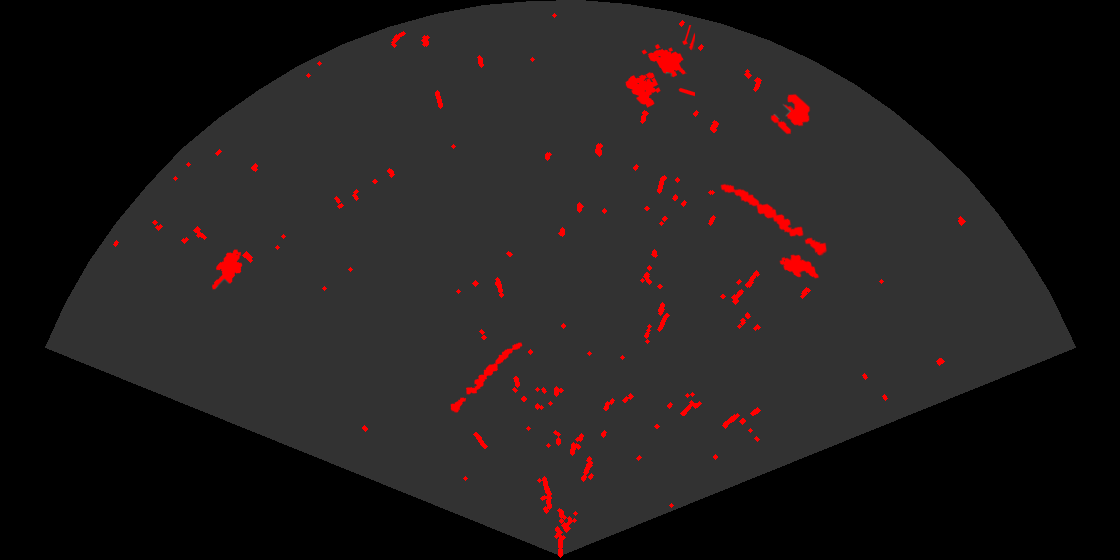AUV: (210, 248, 244, 291), (778, 253, 821, 280)
ball: (769, 92, 812, 136)
cage: (624, 25, 695, 109)
chain: (719, 182, 829, 257), (449, 341, 524, 414)
